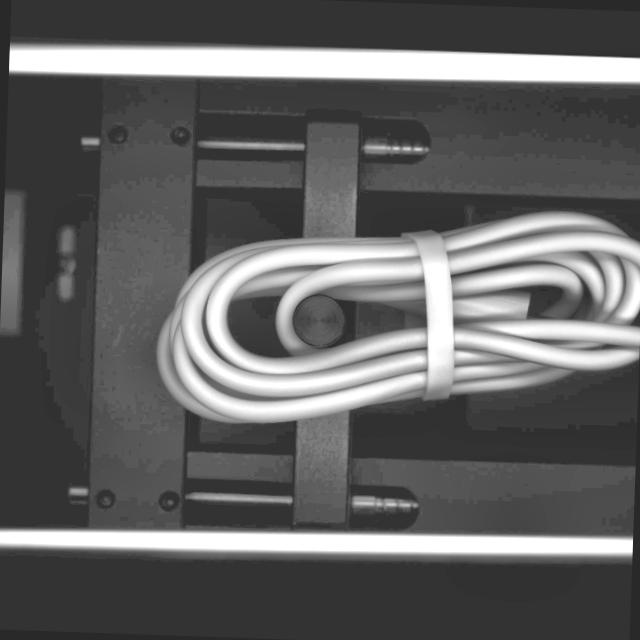Cable: (147, 188, 640, 447)
